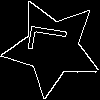L: (27, 22, 77, 58)
